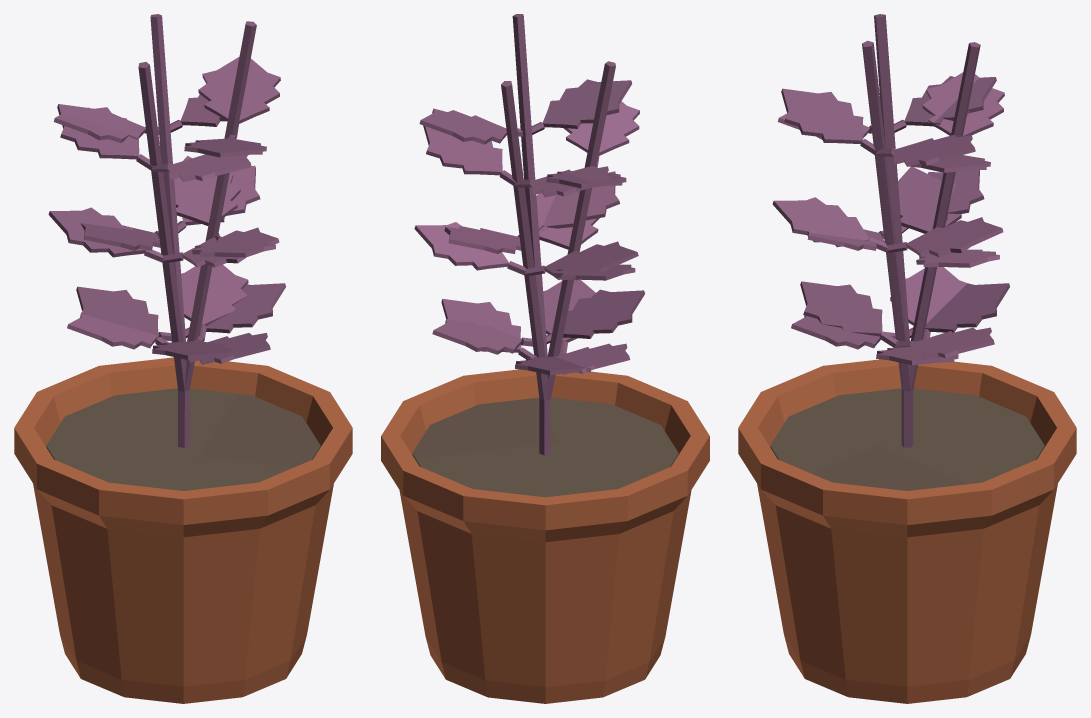
Rendered from shiso.glb.
The picture shows the model from 3 angles, left to right: view 1: azimuth 30°, elevation 25°; view 2: azimuth 150°, elevation 25°; view 3: azimuth 270°, elevation 25°; orthographic projection. The views are drawn at different scales.
Visible parts, largest first — view 1: shiso/review-terra-vessel, shiso/review-rooted-soil, shiso/stem-001, shiso/stem-014, shiso/stem-027, shiso/leaf-026, shiso/leaf-011, shiso/leaf-018, shiso/leaf-003, shiso/leaf-022, shiso/leaf-029, shiso/leaf-007 (+11 smaller); view 2: shiso/review-terra-vessel, shiso/review-rooted-soil, shiso/stem-027, shiso/stem-014, shiso/stem-001, shiso/leaf-016, shiso/leaf-024, shiso/leaf-037, shiso/leaf-033, shiso/leaf-018, shiso/leaf-026, shiso/leaf-013 (+11 smaller); view 3: shiso/review-terra-vessel, shiso/review-rooted-soil, shiso/stem-014, shiso/stem-027, shiso/leaf-024, shiso/leaf-016, shiso/stem-001, shiso/leaf-020, shiso/leaf-003, shiso/leaf-035, shiso/leaf-039, shiso/leaf-022 (+10 smaller).
Boxes of the visible parts, x1,y1,x2,y2 form: shiso/review-terra-vessel: (14,357,352,703); shiso/review-rooted-soil: (46,388,320,490); shiso/stem-001: (138,62,189,447); shiso/stem-014: (178,21,256,447); shiso/stem-027: (150,14,185,445); shiso/leaf-026: (198,56,280,123); shiso/leaf-011: (57,104,139,159); shiso/leaf-018: (181,264,248,325); shiso/leaf-003: (76,286,158,342); shiso/leaf-022: (174,156,240,225); shiso/leaf-029: (206,283,285,333); shiso/leaf-007: (48,207,145,257); shiso/review-terra-vessel: (381,369,709,703); shiso/review-rooted-soil: (412,397,678,497); shiso/stem-027: (501,81,550,455); shiso/stem-014: (512,14,547,455); shiso/stem-001: (544,61,615,452); shiso/leaf-016: (563,289,644,338); shiso/leaf-024: (542,79,632,128); shiso/leaf-037: (423,125,502,175); shiso/leaf-033: (414,222,508,270); shiso/leaf-018: (432,318,522,354); shiso/leaf-026: (419,108,506,144); shiso/leaf-013: (563,101,639,155); shiso/review-terra-vessel: (738,359,1076,703); shiso/review-rooted-soil: (770,388,1044,490); shiso/stem-014: (862,40,913,447); shiso/stem-027: (904,42,980,447); shiso/leaf-024: (781,88,863,143); shiso/leaf-016: (800,281,882,336); shiso/stem-001: (874,14,909,447); shiso/leaf-020: (772,197,869,247); shiso/leaf-003: (925,283,1009,332); shiso/leaf-035: (898,166,961,233); shiso/leaf-039: (922,72,1004,136); shiso/leaf-022: (906,217,1003,257).
Size of the model in its own units: 0.19 by 0.3925 by 0.19.
Materials: 3 (3 with a texture image).
